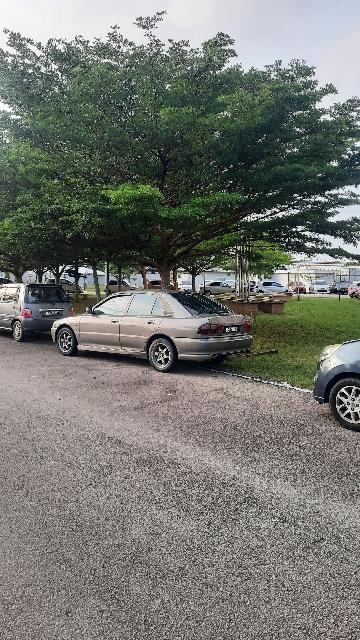License_Plate: (223, 325, 245, 336), (41, 310, 64, 318)
car: (49, 289, 255, 374), (314, 333, 360, 441), (2, 280, 73, 345)
